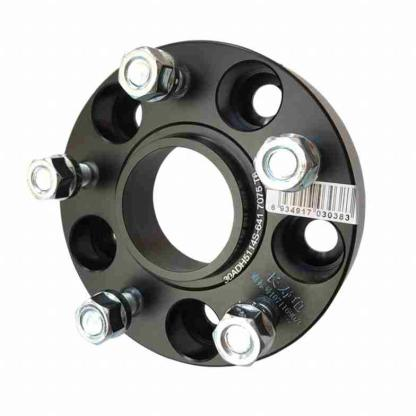FOD: (53, 34, 368, 372)
